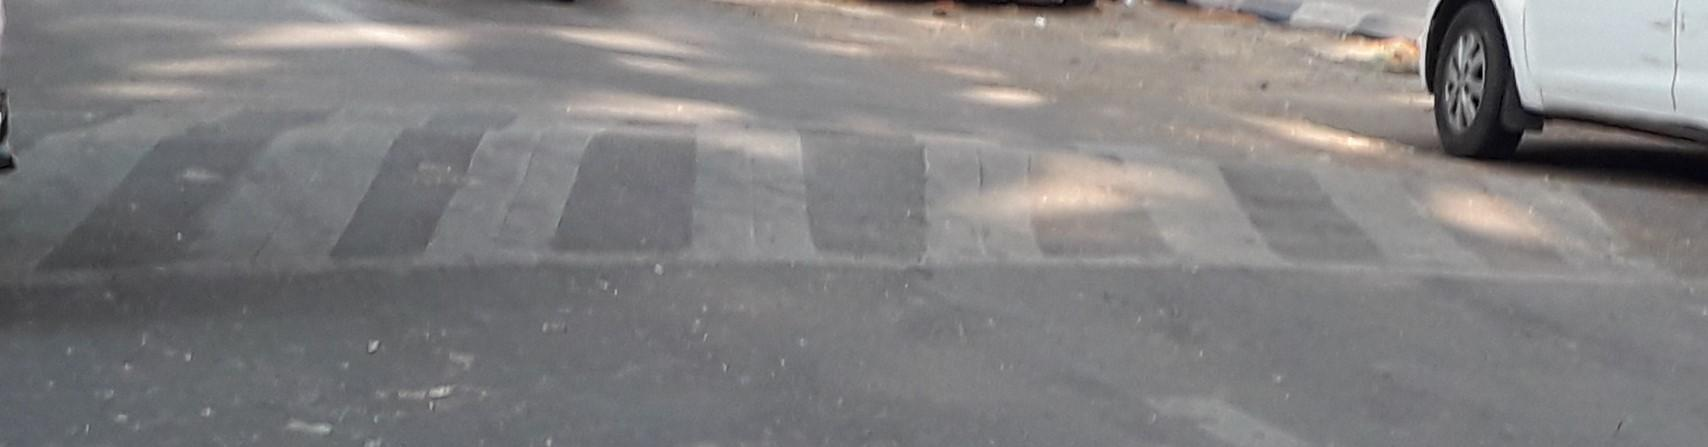speed-bump: (2, 94, 1673, 285)
